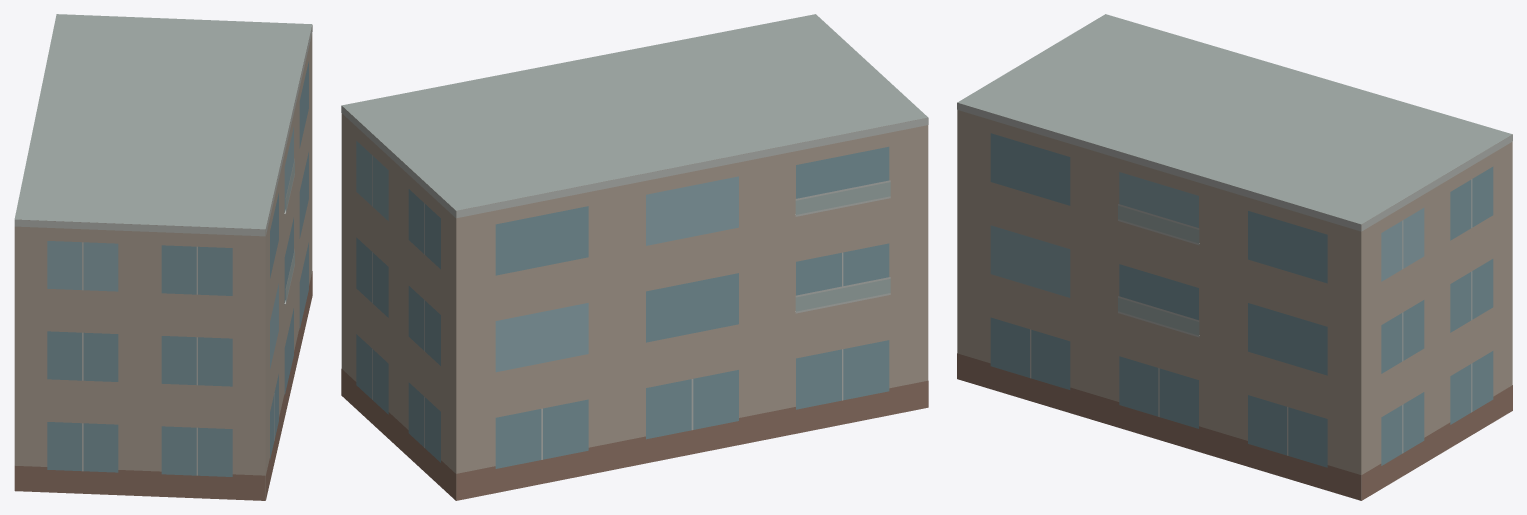
The model's file is survey-upis-33000540.glb.
3 renders of one model, left to right at view 1: azimuth 30°, elevation 25°; view 2: azimuth 150°, elevation 25°; view 3: azimuth 270°, elevation 25°, orthographic. The views are drawn at different scales.
Parts seen in each view (by area): view 1: survey-upis-33000540.tmp; view 2: survey-upis-33000540.tmp; view 3: survey-upis-33000540.tmp.
Boxes of the visible parts, bbox=[...] form: survey-upis-33000540.tmp: bbox=[14, 14, 312, 500]; survey-upis-33000540.tmp: bbox=[341, 14, 928, 500]; survey-upis-33000540.tmp: bbox=[957, 14, 1512, 500].
Bounding box in the file's own units: 15.36 × 9.4 × 17.13.
